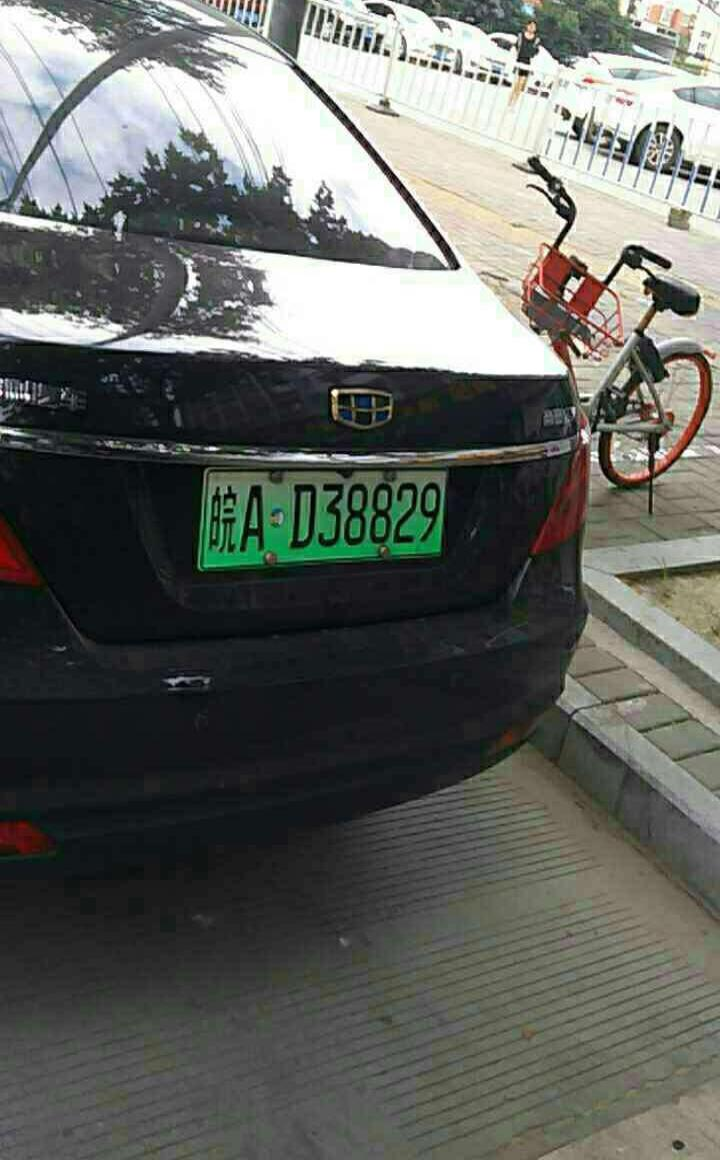car_id: (205, 472, 445, 561)
